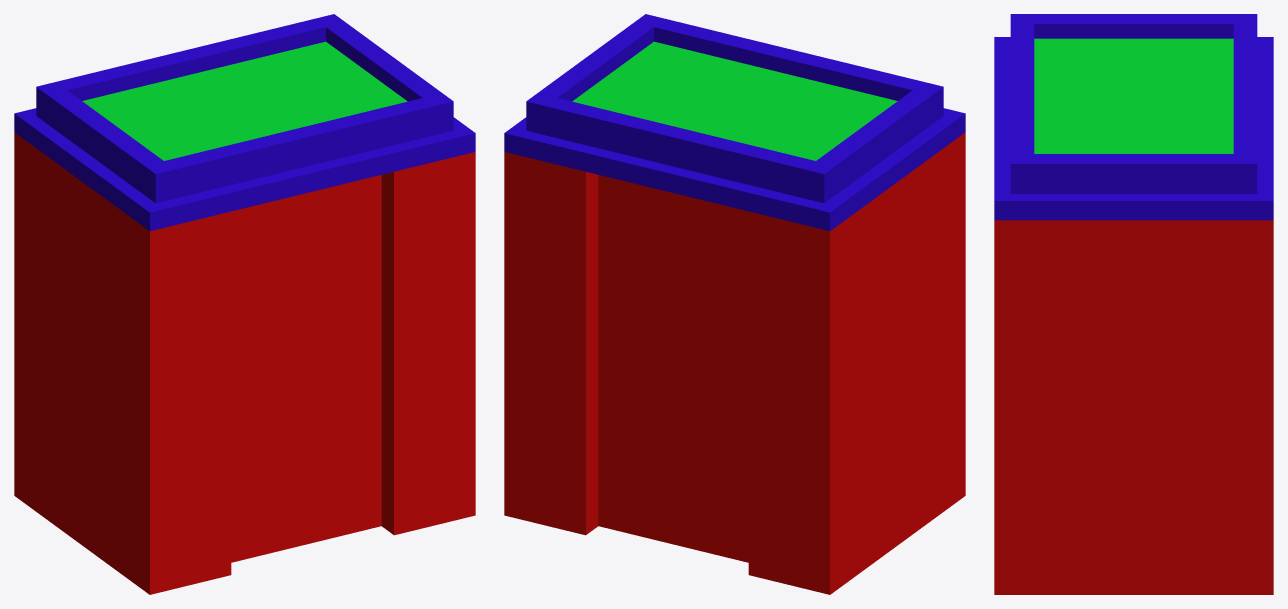
File: Building2.fbx
The picture shows the model from 3 angles, left to right: view 1: azimuth 30°, elevation 25°; view 2: azimuth 150°, elevation 25°; view 3: azimuth 270°, elevation 25°; orthographic projection. The views are drawn at different scales.
Visible parts, largest first — view 1: Cube.001; view 2: Cube.001; view 3: Cube.001.
Part boxes in pixels (x1,y1,x2,y2): Cube.001: (14, 14, 475, 594); Cube.001: (504, 14, 965, 594); Cube.001: (994, 14, 1273, 594).
Bounding box in the file's own units: 908 × 1096 × 654.
